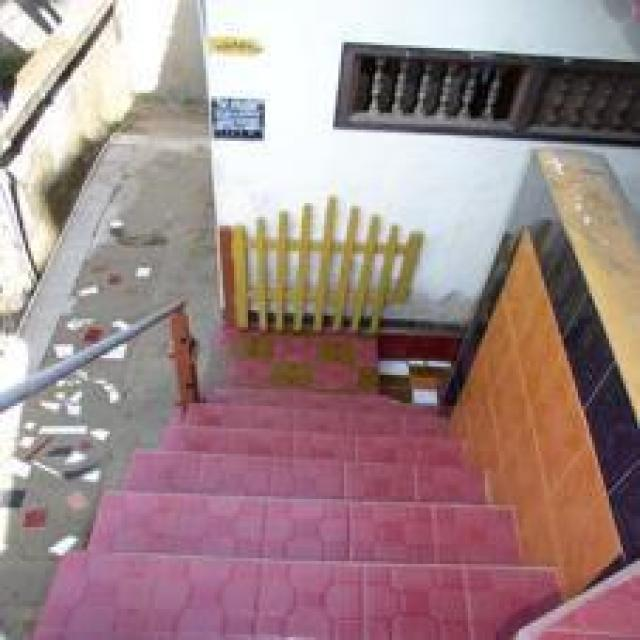downstair: (83, 416, 508, 622)
